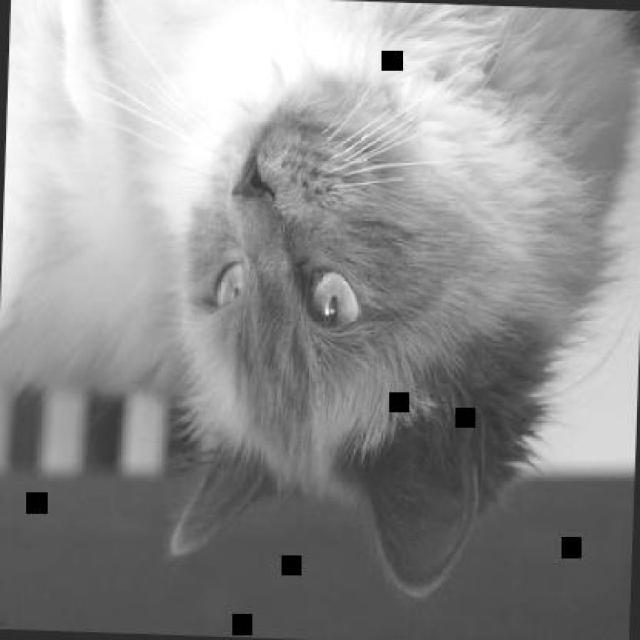cat: (0, 0, 634, 608)
